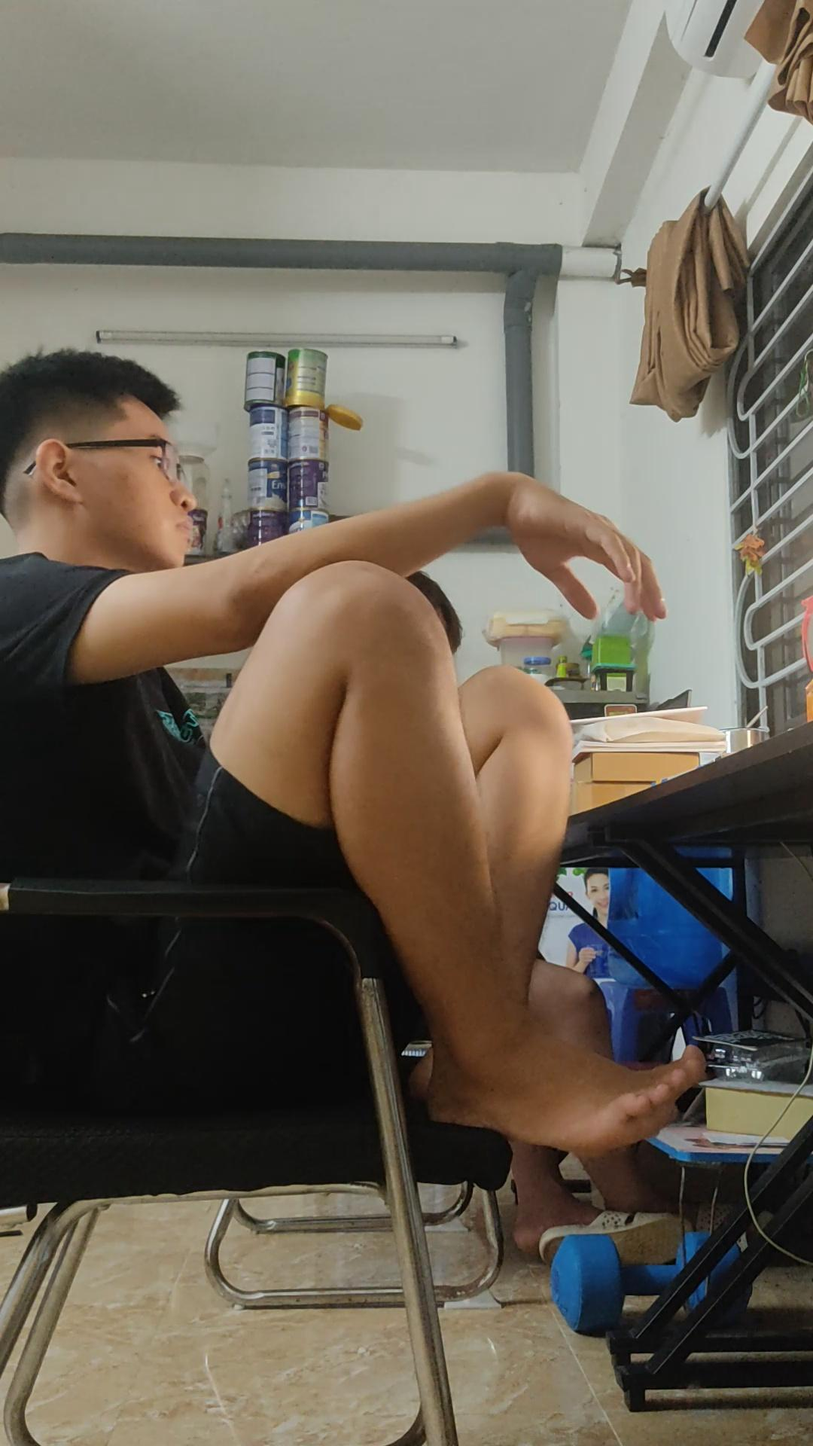BadPosture: (212, 564, 702, 1157)
